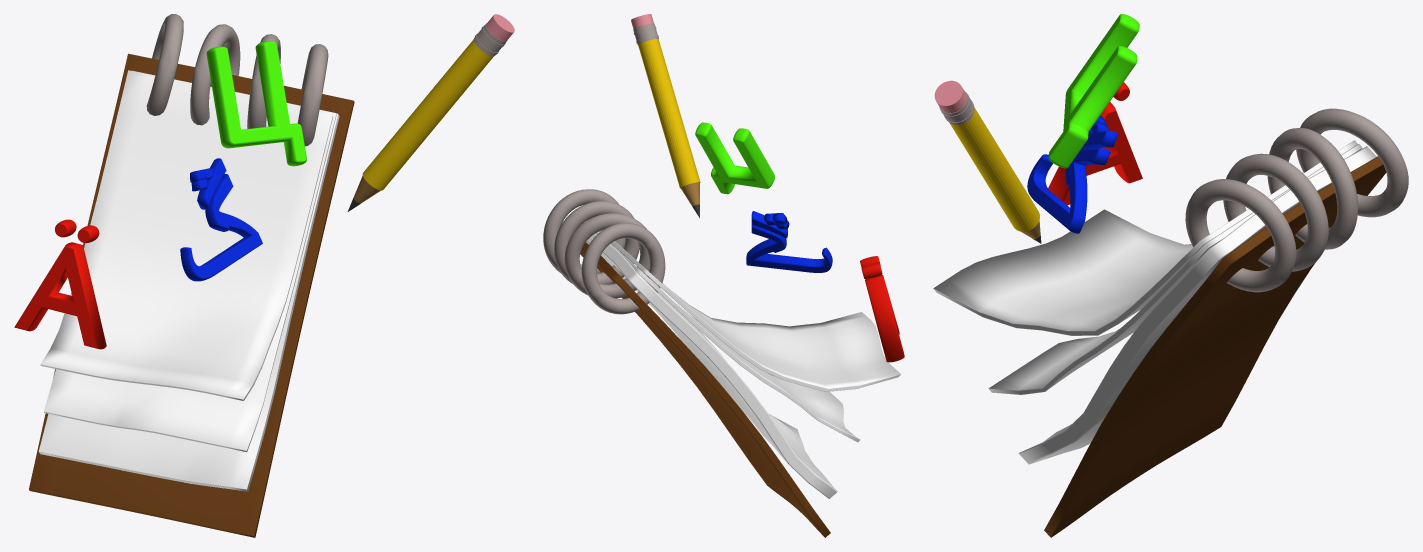
Rendered from notepad.glb.
3 views of the same model, side by side, from view 1: azimuth 30°, elevation 25°; view 2: azimuth 150°, elevation 25°; view 3: azimuth 270°, elevation 25° (orthographic). The views are drawn at different scales.
Visible parts, largest first — view 1: Cube.003, Cylinder.004, Text.001, Text.002, Text; view 2: Cube.003, Cylinder.004, Text.001, Text, Text.002; view 3: Cube.003, Text.001, Cylinder.004, Text, Text.002.
Part boxes in pixels (x1=…): Cube.003: x1=29, y1=14, x2=354, y2=537; Cylinder.004: x1=347, y1=14, x2=514, y2=211; Text.001: x1=206, y1=41, x2=306, y2=166; Text.002: x1=14, y1=219, x2=106, y2=349; Text: x1=180, y1=158, x2=262, y2=281; Cube.003: x1=543, y1=189, x2=900, y2=537; Cylinder.004: x1=631, y1=14, x2=700, y2=217; Text.001: x1=695, y1=122, x2=774, y2=194; Text: x1=746, y1=211, x2=832, y2=272; Text.002: x1=860, y1=256, x2=904, y2=362; Cube.003: x1=933, y1=108, x2=1408, y2=537; Text.001: x1=1048, y1=14, x2=1139, y2=168; Cylinder.004: x1=934, y1=80, x2=1041, y2=243; Text: x1=1027, y1=115, x2=1118, y2=233; Text.002: x1=1048, y1=82, x2=1142, y2=205.
Bounding box in the file's own units: 0.2496 × 0.2884 × 0.221.
